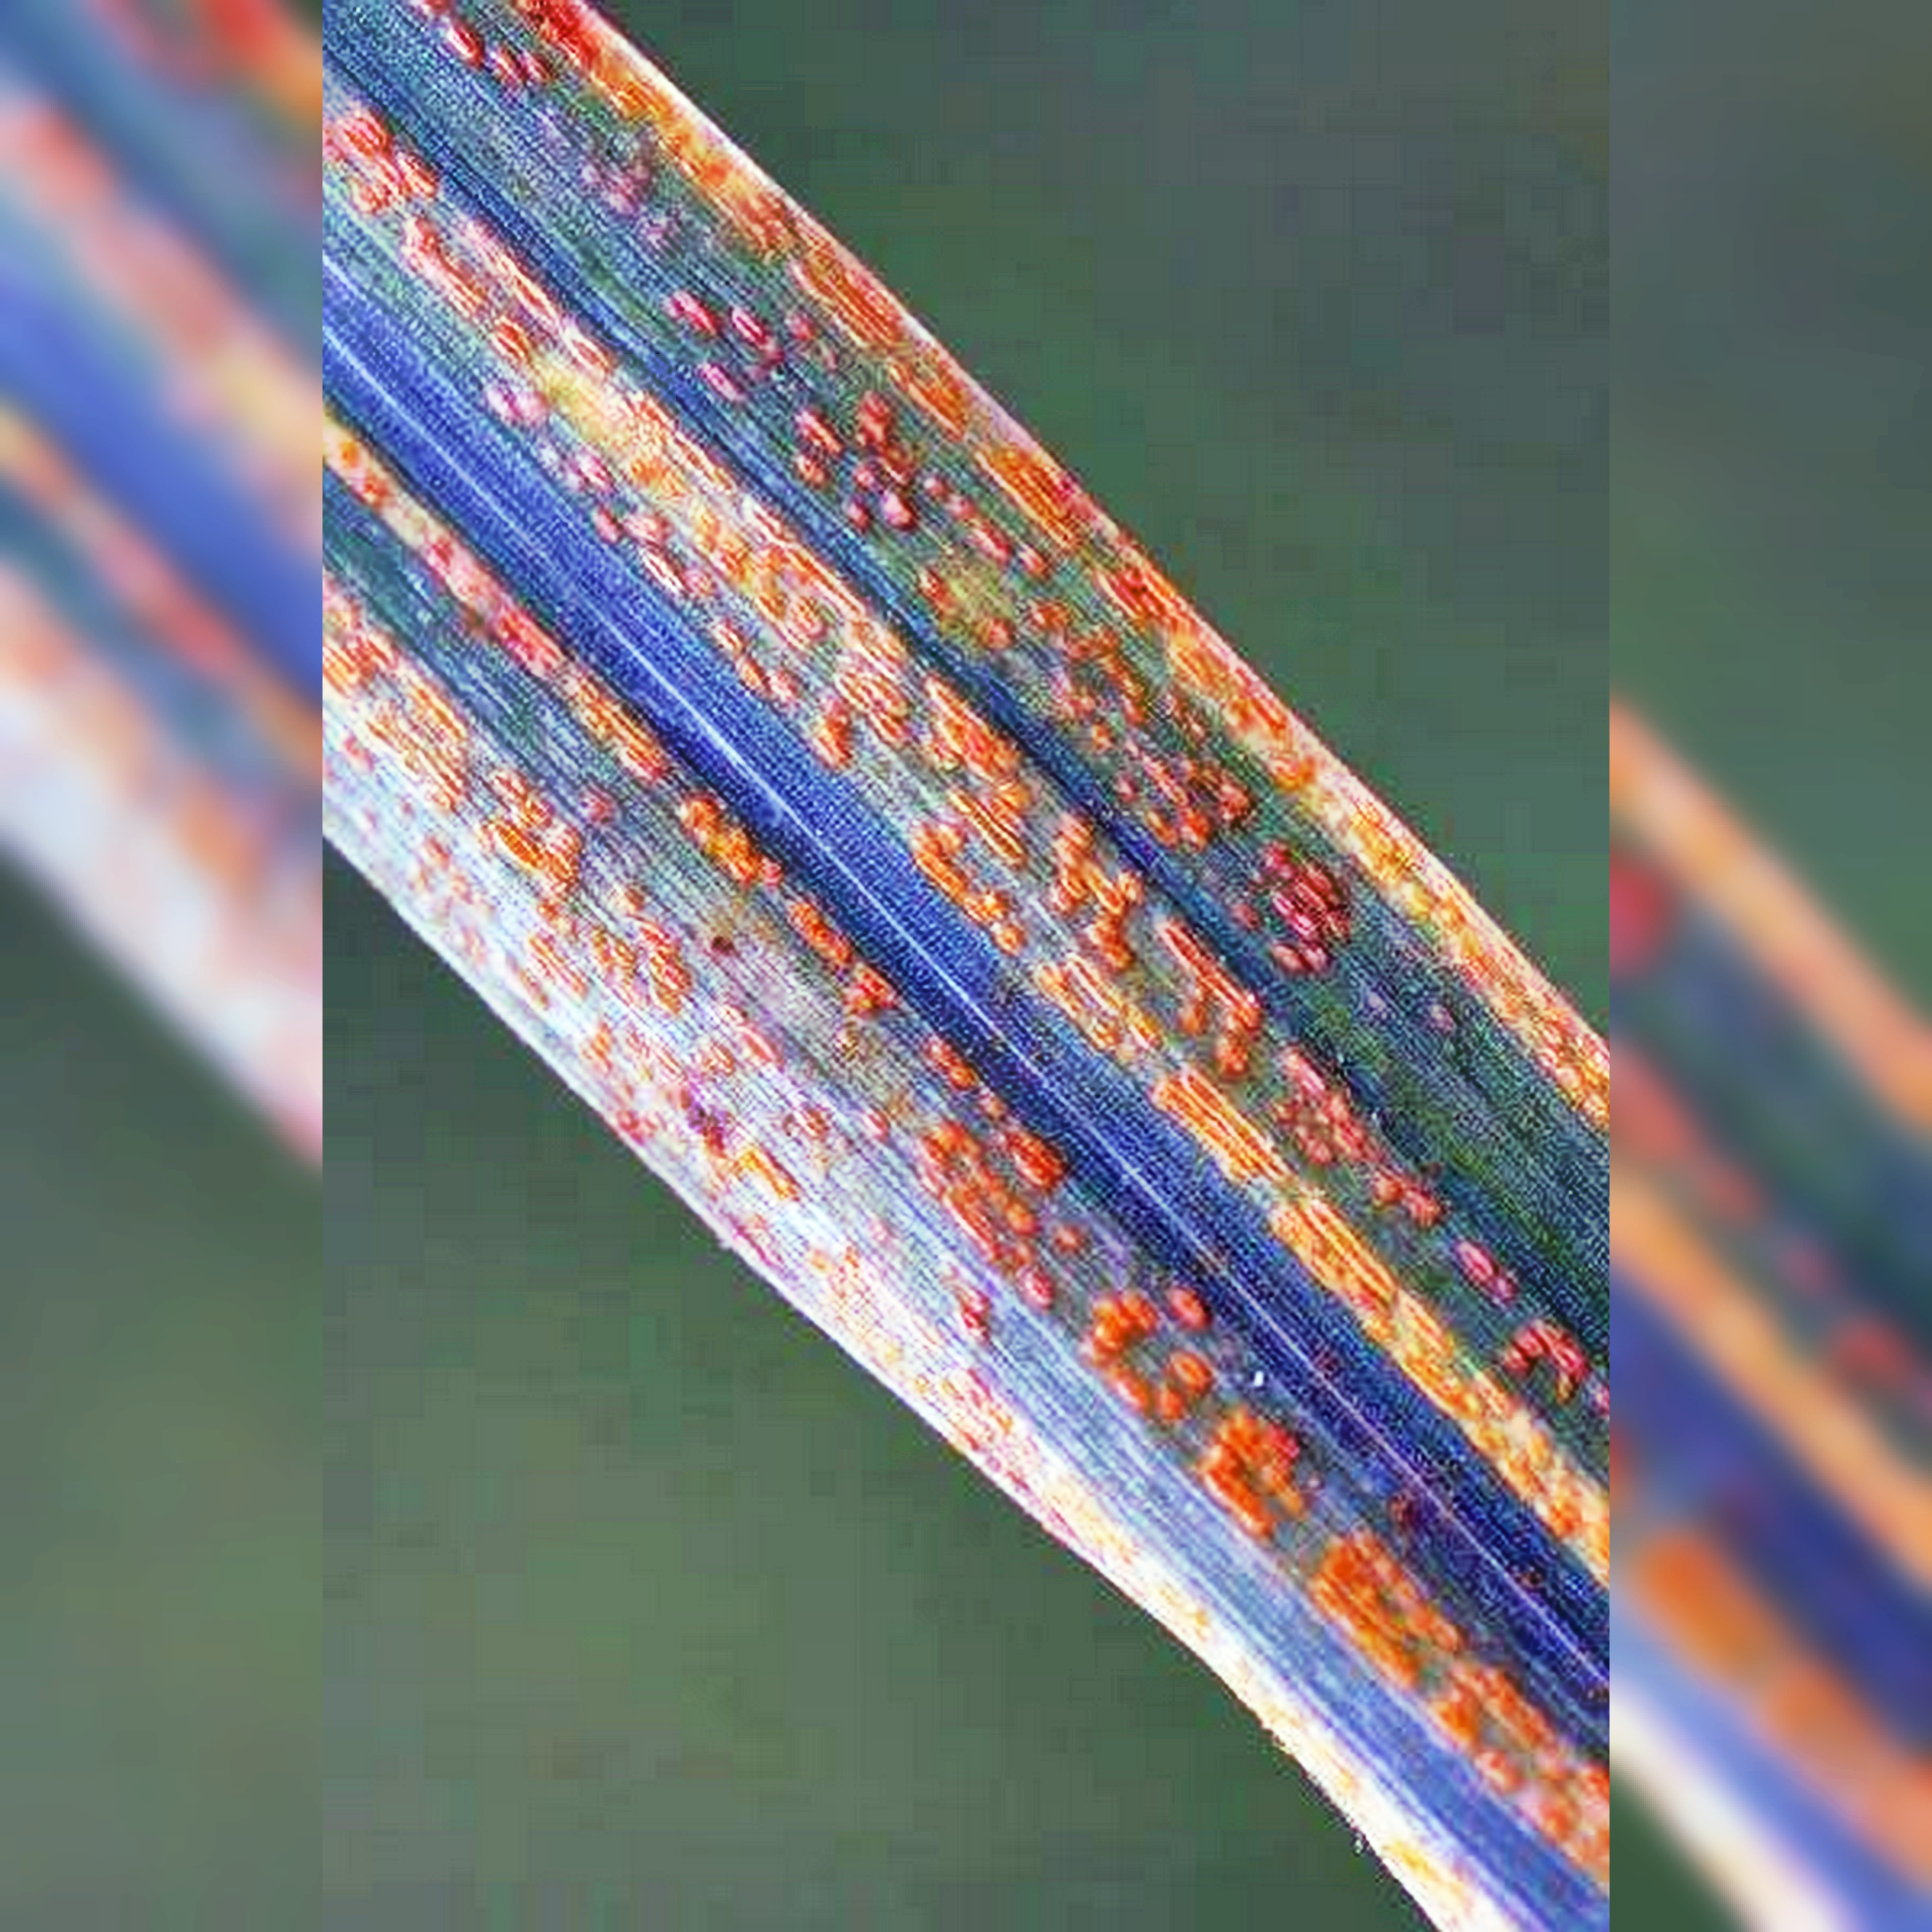Leaf Rust: (372, 106, 1592, 1817)
